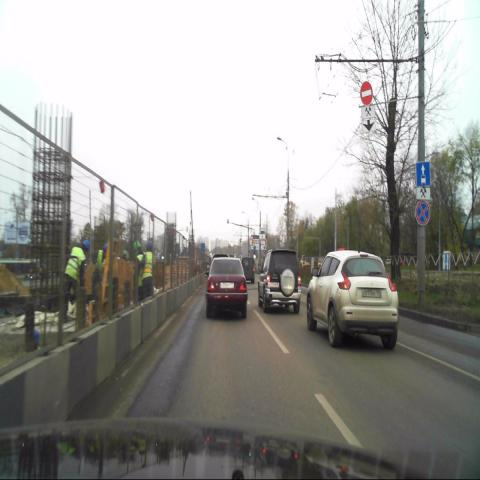3_27: (415, 201, 430, 225)
5_14: (416, 161, 430, 186)
